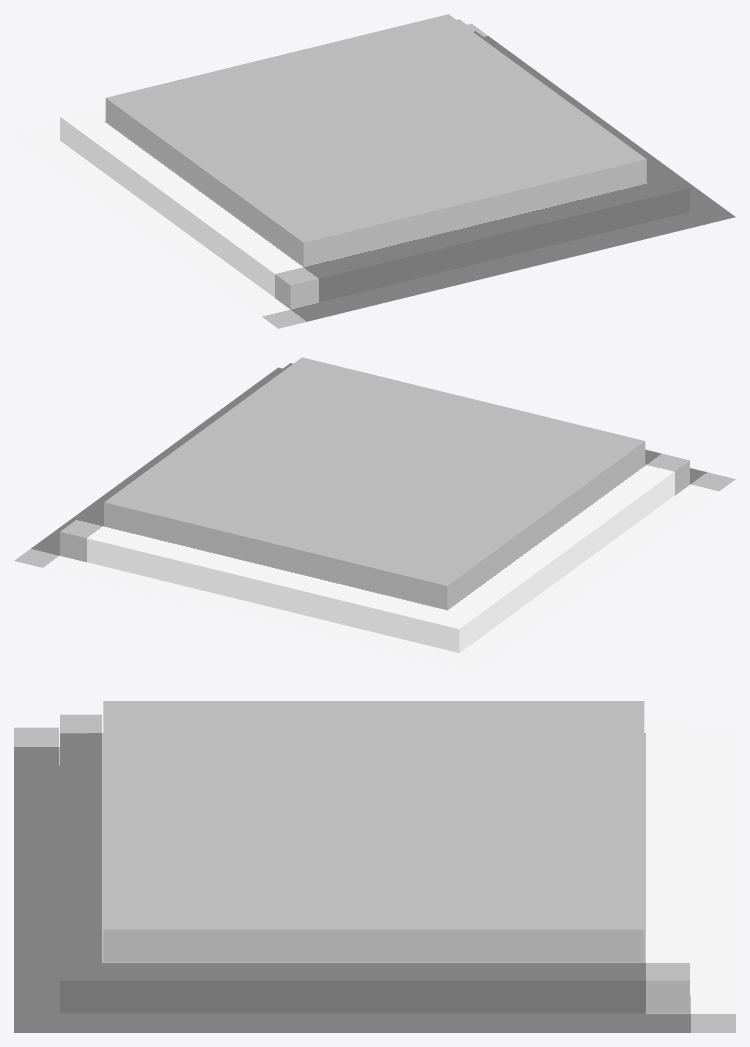
Rendered from closed.glb.
3 views of the same model, one above another, from view 1: azimuth 30°, elevation 25°; view 2: azimuth 150°, elevation 25°; view 3: azimuth 270°, elevation 25° (orthographic). The views are drawn at different scales.
Parts seen in each view (by area): view 1: closed; view 2: closed; view 3: closed.
Boxes of the visible parts, x1,y1,x2,y2 form: closed: (14,14,735,328); closed: (14,357,735,672); closed: (14,701,735,1032).
Size of the model in its own units: 1 by 0.1 by 1.
Materials: 1 (1 with a texture image).
